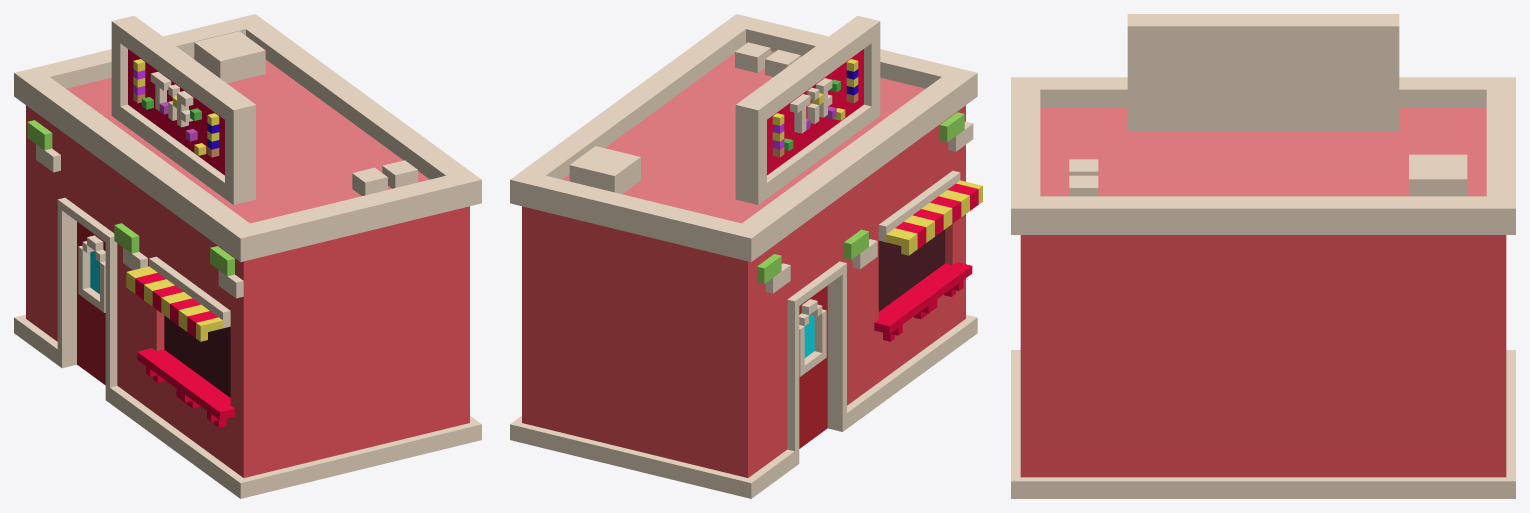
Rendered from coffee.glb.
3 views of the same model, side by side, from view 1: azimuth 30°, elevation 25°; view 2: azimuth 150°, elevation 25°; view 3: azimuth 270°, elevation 25° (orthographic). The views are drawn at different scales.
Visible parts, largest first — view 1: CandyShop; view 2: CandyShop; view 3: CandyShop.
Boxes of the visible parts, x1,y1,x2,y2 form: CandyShop: (14, 14, 481, 498); CandyShop: (510, 14, 982, 498); CandyShop: (1011, 14, 1515, 498).
Size of the model in its own units: 3.5 by 4.3 by 5.2.
1 material, 1 textured.
